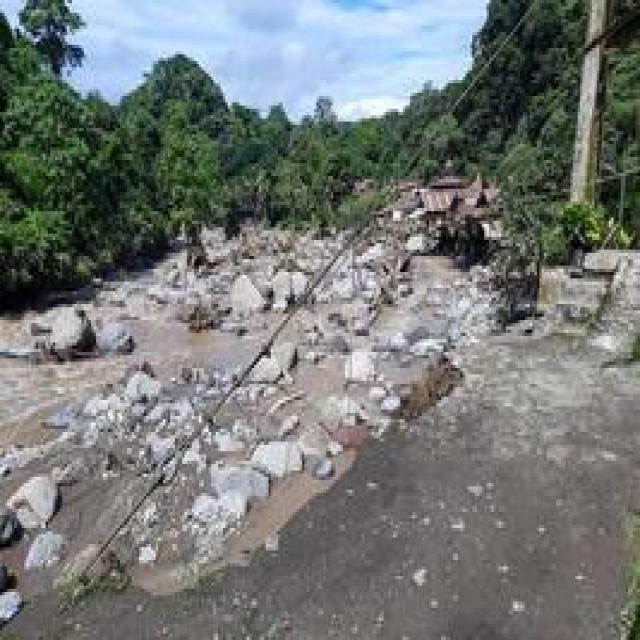road collapse: (0, 198, 575, 614)
